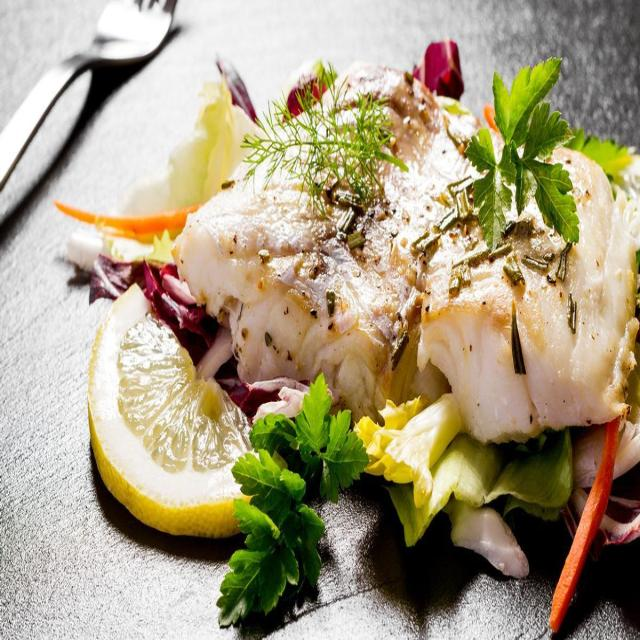pescado: (177, 58, 620, 434)
